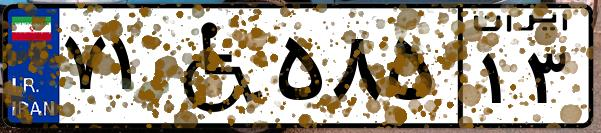1: (475, 38, 525, 113), (110, 28, 158, 98)
3: (525, 38, 570, 115)
5: (270, 28, 330, 110), (385, 28, 445, 110)
7: (57, 26, 110, 100)
8: (330, 28, 385, 110)
ژ (معلولین و جانبازان): (158, 12, 270, 120)
